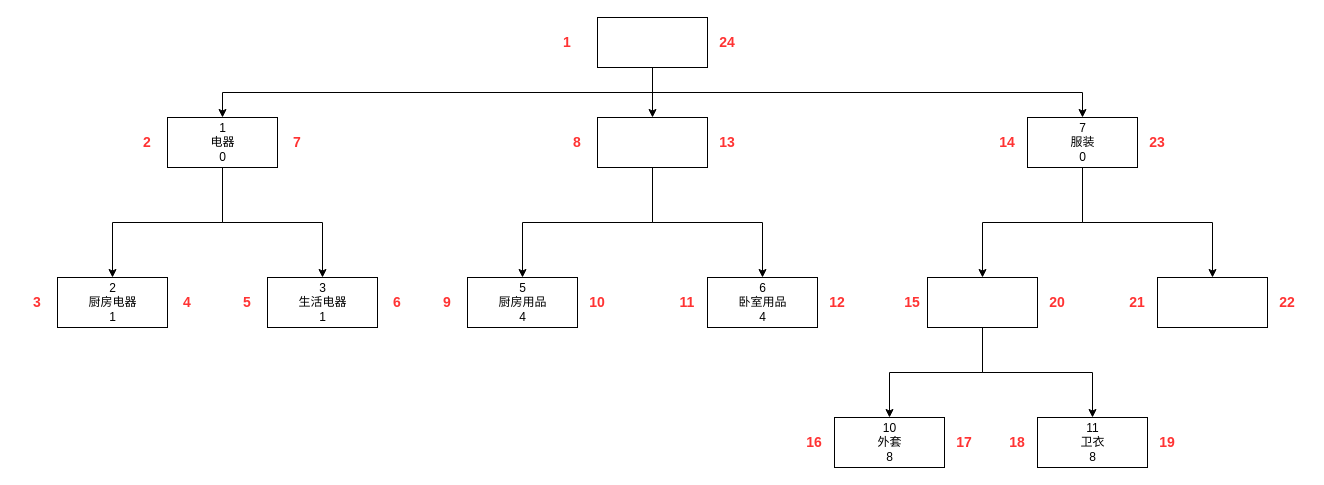
Image size: 1324x485. Some labels were removed from this diagram. Here are the shapes that lost their labels. From the top down, the centre of each, then its label:
At point (652, 42): "0 哑结点 null".
At point (652, 142): "4 生活用品 0".
At point (982, 302): "8 上衣 7".
At point (1212, 302): "9 裤子 7".
